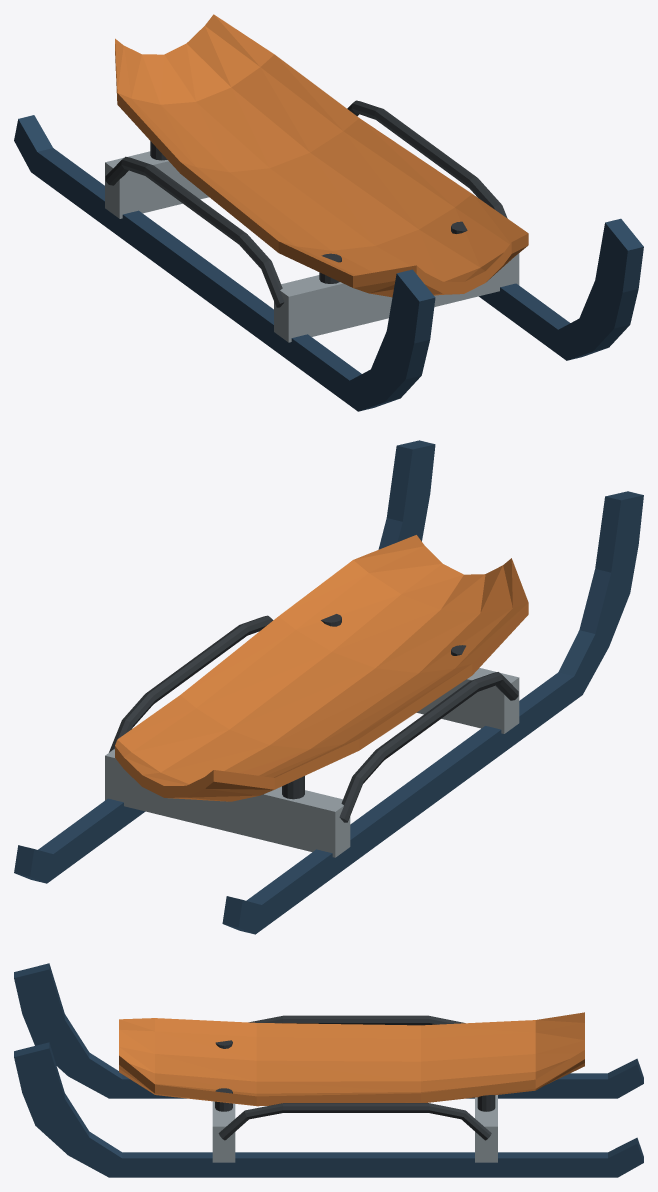
The picture shows the model from 3 angles, top to bottom: view 1: azimuth 30°, elevation 25°; view 2: azimuth 150°, elevation 25°; view 3: azimuth 270°, elevation 25°; orthographic projection. The views are drawn at different scales.
Parts seen in each view (by area): view 1: WholeOpenContouredSinglePan, WholeContinuousUpturnedHornRunner0, WholeContinuousUpturnedHornRunner1, WholeTransversePanBridge0, WholeBentSideGrip0, WholeTransversePanBridge1, WholeBentSideGrip1; view 2: WholeOpenContouredSinglePan, WholeContinuousUpturnedHornRunner0, WholeTransversePanBridge1, WholeContinuousUpturnedHornRunner1, WholeBentSideGrip0, WholeTransversePanBridge0, WholeBentSideGrip1; view 3: WholeOpenContouredSinglePan, WholeContinuousUpturnedHornRunner1, WholeContinuousUpturnedHornRunner0, WholeBentSideGrip1, WholeBentSideGrip0, WholeTransversePanBridge0, WholeTransversePanBridge1.
Part boxes in pixels (<box>): WholeOpenContouredSinglePan: <box>115,14,528,297</box>; WholeContinuousUpturnedHornRunner0: <box>14,115,435,411</box>; WholeContinuousUpturnedHornRunner1: <box>479,218,643,360</box>; WholeTransversePanBridge0: <box>274,253,519,342</box>; WholeBentSideGrip0: <box>105,156,284,307</box>; WholeTransversePanBridge1: <box>105,151,208,218</box>; WholeBentSideGrip1: <box>347,100,507,218</box>; WholeOpenContouredSinglePan: <box>115,535,528,801</box>; WholeContinuousUpturnedHornRunner0: <box>222,491,643,934</box>; WholeTransversePanBridge1: <box>105,749,350,857</box>; WholeContinuousUpturnedHornRunner1: <box>14,440,435,883</box>; WholeBentSideGrip0: <box>339,672,518,822</box>; WholeTransversePanBridge0: <box>416,668,519,733</box>; WholeBentSideGrip1: <box>109,615,273,752</box>; WholeOpenContouredSinglePan: <box>119,1012,584,1106</box>; WholeContinuousUpturnedHornRunner1: <box>14,1042,643,1177</box>; WholeContinuousUpturnedHornRunner0: <box>14,963,643,1098</box>; WholeBentSideGrip1: <box>218,1103,491,1140</box>; WholeBentSideGrip0: <box>248,1015,465,1025</box>; WholeTransversePanBridge0: <box>212,1101,235,1162</box>; WholeTransversePanBridge1: <box>475,1095,497,1162</box>.
Bounding box in the file's own units: 0.662 × 0.435 × 1.92.
